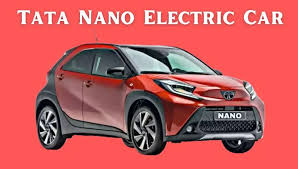Nano: (34, 40, 264, 155)
